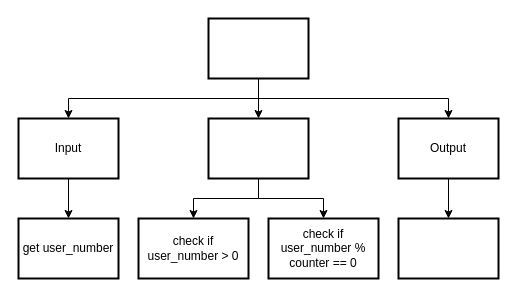
This 516x296 diagram has some shape labels left out. The shapes that lost their labels are listed below. From the top down, each one's centre as x and y in pixels, then its label:
[258,48]: factors
[258,148]: Process
[448,248]: print counter
